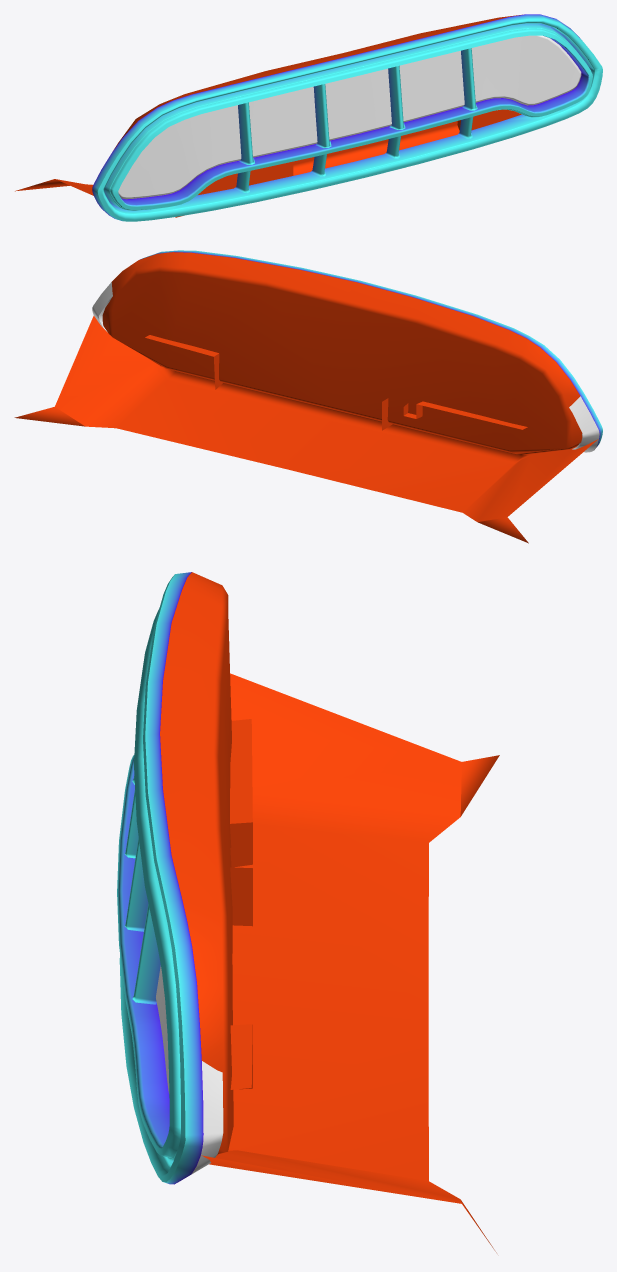
File: Car_Mini_CountrymanJCW_2017_Grille_SetB.fbx
The picture shows the model from 3 angles, top to bottom: view 1: azimuth 30°, elevation 25°; view 2: azimuth 150°, elevation 25°; view 3: azimuth 270°, elevation 25°; orthographic projection. The views are drawn at different scales.
Parts seen in each view (by area): view 1: Grille 6; view 2: Grille 6; view 3: Grille 6.
Boxes of the visible parts, x1,y1,x2,y2 form: Grille 6: (15,14,602,221); Grille 6: (14,250,602,543); Grille 6: (117,572,499,1252).
Bounding box in the file's own units: 1.08 × 0.2797 × 0.349.
